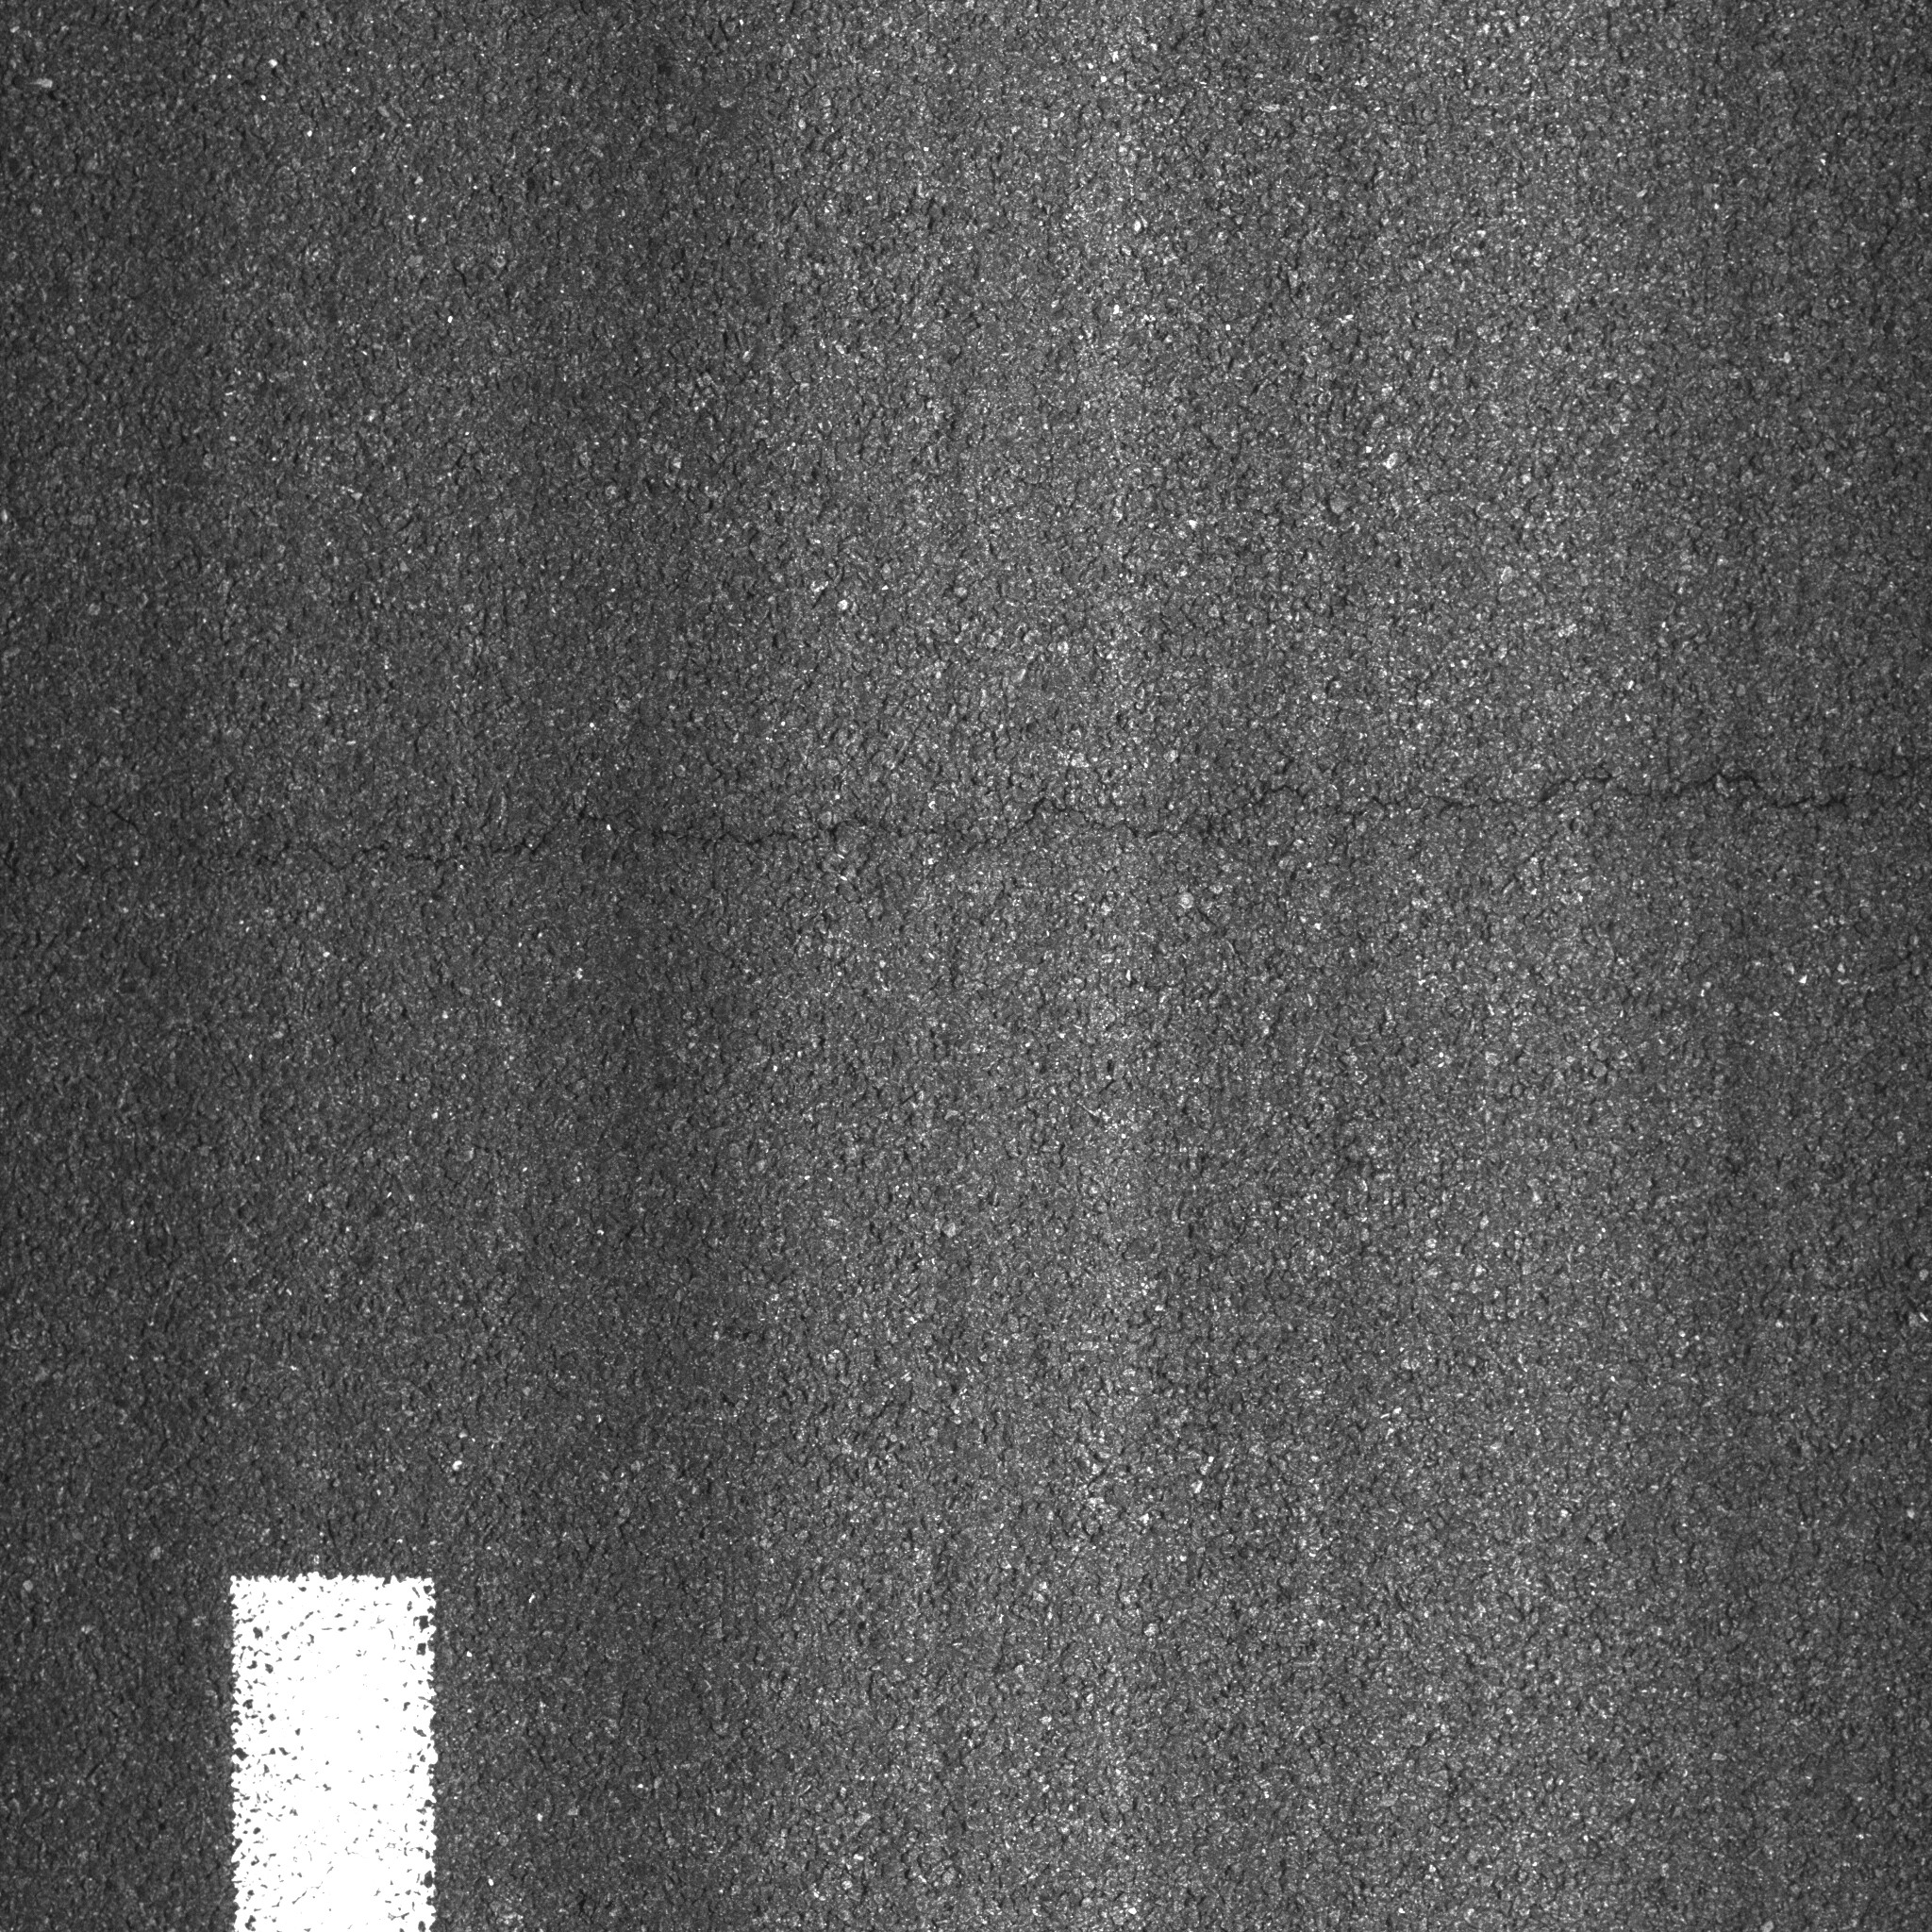transverse: (18, 732, 1932, 931)
